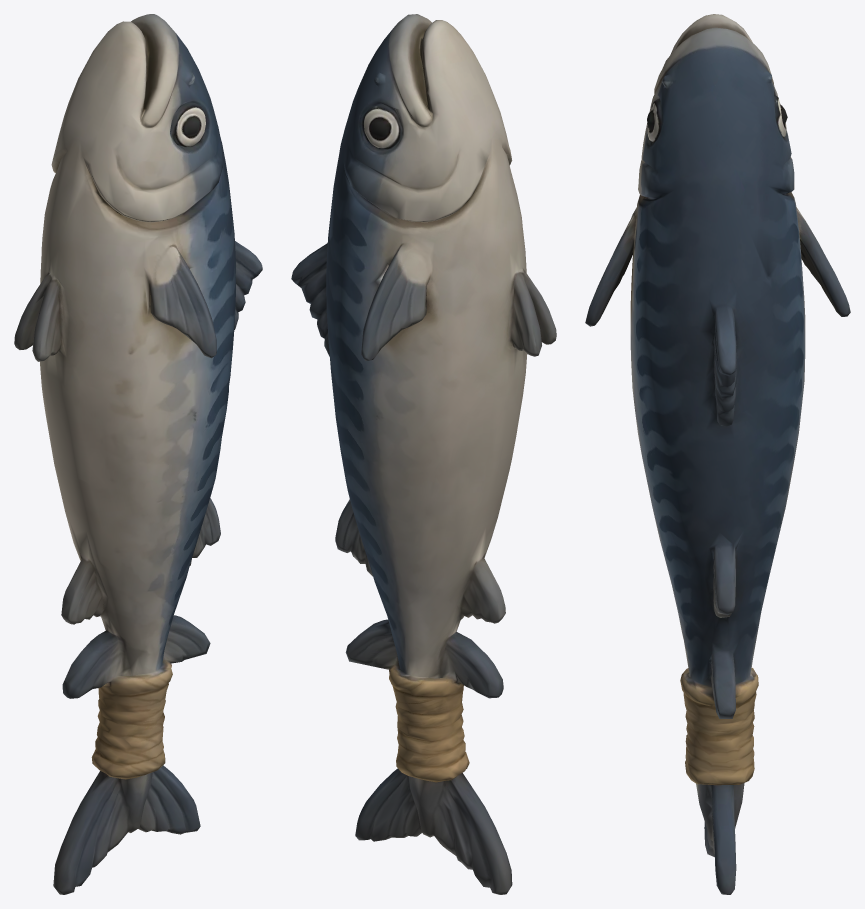
File: saba_sword.glb
3 views of the same model, side by side, from view 1: azimuth 30°, elevation 25°; view 2: azimuth 150°, elevation 25°; view 3: azimuth 270°, elevation 25° (orthographic).
Parts seen in each view (by area): view 1: tripo_node_8543dfbf-f46e-482d-86e7-23a741d8a22e; view 2: tripo_node_8543dfbf-f46e-482d-86e7-23a741d8a22e; view 3: tripo_node_8543dfbf-f46e-482d-86e7-23a741d8a22e.
Part boxes in pixels (x1,y1,x2,y2): tripo_node_8543dfbf-f46e-482d-86e7-23a741d8a22e: (14, 14, 262, 894); tripo_node_8543dfbf-f46e-482d-86e7-23a741d8a22e: (291, 14, 556, 894); tripo_node_8543dfbf-f46e-482d-86e7-23a741d8a22e: (585, 14, 850, 894).
Bounding box in the file's own units: 0.3008 × 1 × 0.2755.
1 material, 1 textured.
